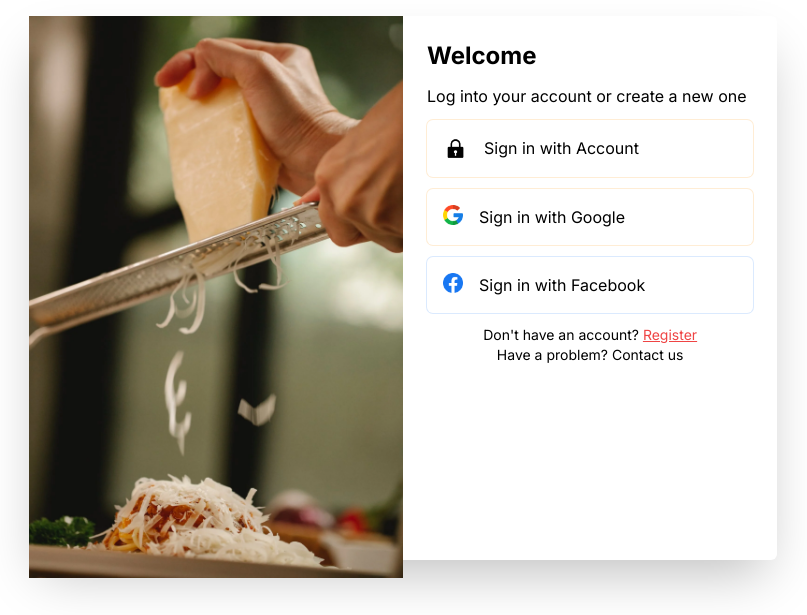
LoginPage › should show RegisterForm when clicking Register from options
This screenshot has width=807, height=615.
Step 1. Click the button "Sign in with Account" → click(590, 148), box [427,120,753,177]
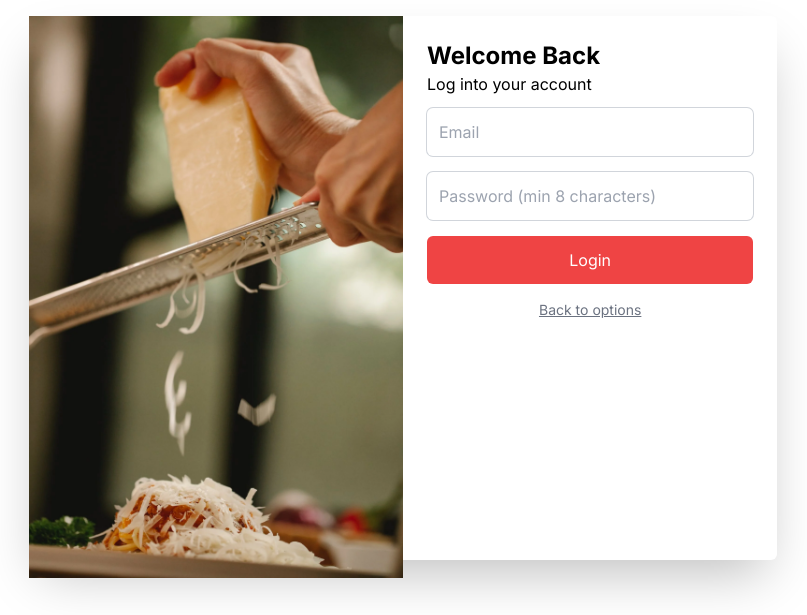
Step 2. Click the button "Back to options" → click(590, 310), box [427,300,753,320]
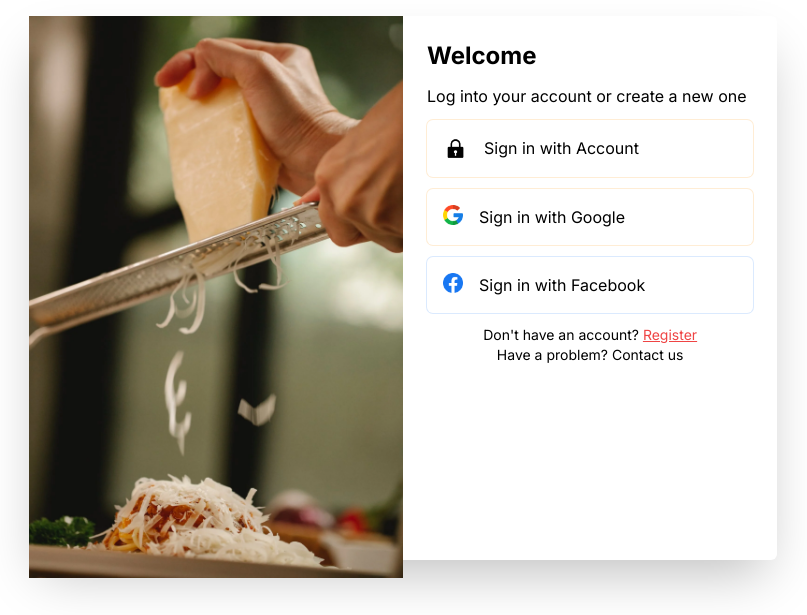
Step 3. Click the button "Register" → click(670, 335), box [643,325,697,345]
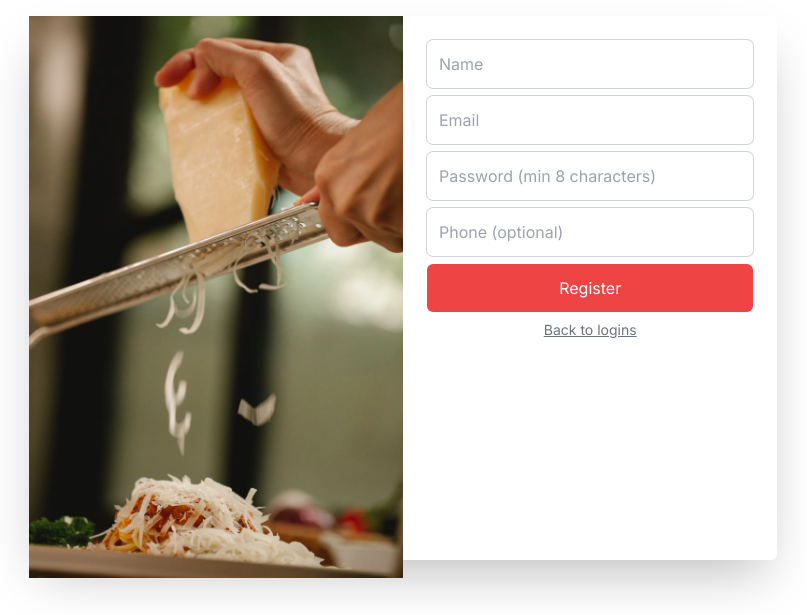
Result: the button "Register" is shown at [427,264,753,312]
Result: the field with placeholder "Name" is shown at [427,40,753,88]
Result: the field with placeholder "Phone (optional)" is shown at [427,208,753,256]
